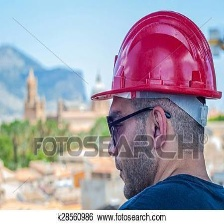helmet: (83, 10, 224, 204), (89, 11, 224, 103)
